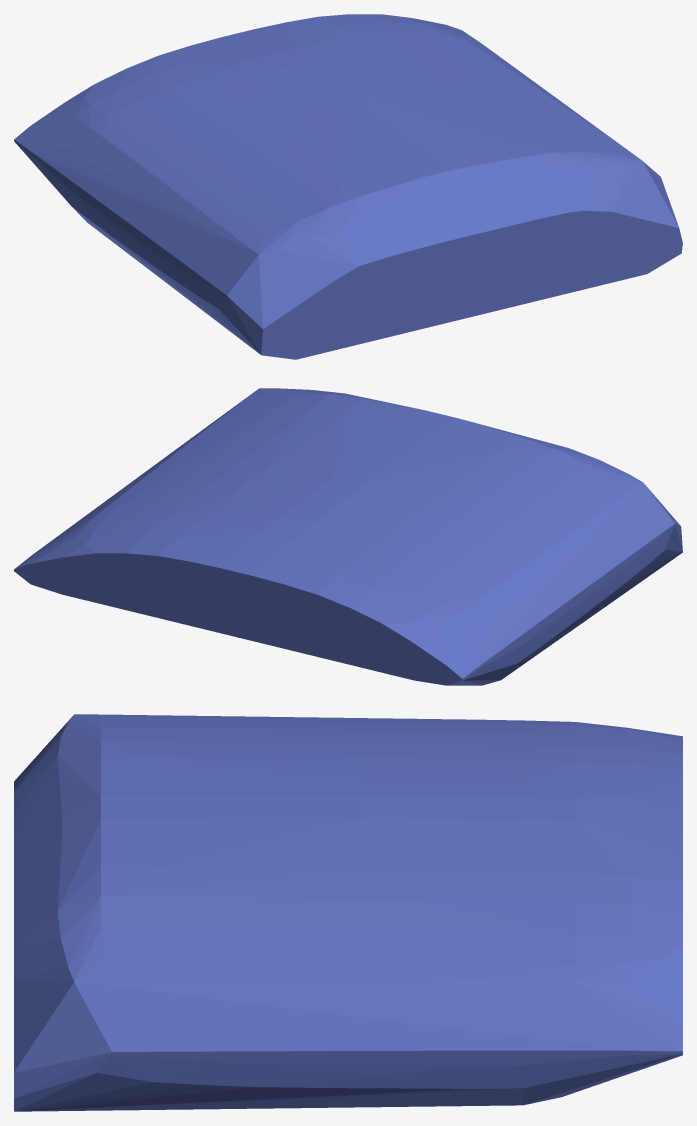
File: right-shoulder-pitch-0_part_69.obj
3 renders of one model, top to bottom at view 1: azimuth 30°, elevation 25°; view 2: azimuth 150°, elevation 25°; view 3: azimuth 270°, elevation 25°, orthographic. The views are drawn at different scales.
Size of the model in its own units: 0.0291 by 0.00759 by 0.0262.
